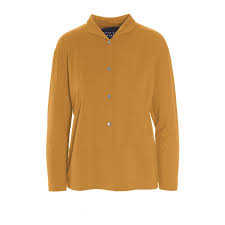C_blouse: (43, 6, 179, 200)
